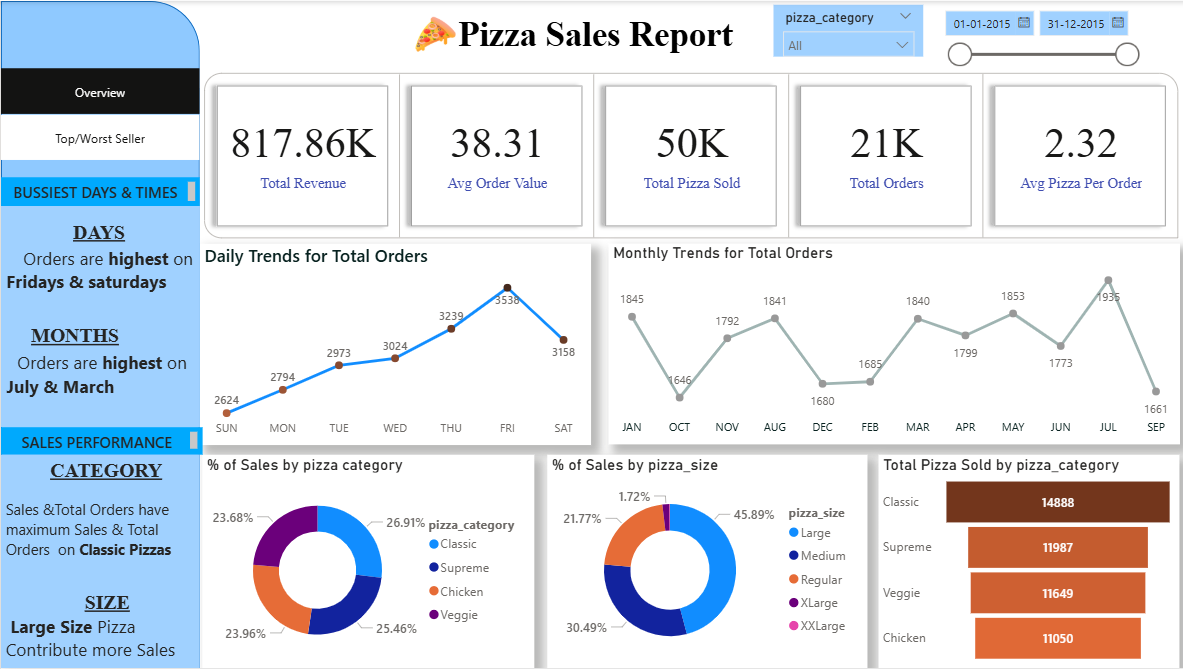

The page's visual inventory and layout, read from the dashboard file:
{"tool":"powerbi","page":{"name":"Home","canvas":[1280,720],"ordinal":0},"visuals":[{"type":"shape","box":[0,0,214.5,720.4],"z":0},{"type":"cardVisual","fields":{"Data":["pizza_sales.Total Revenue","pizza_sales.Avg Order Value","pizza_sales.Total Pizza Sold","pizza_sales.Total Orders","pizza_sales.Avg Pizza Per Order"]},"box":[215.1,73.3,1065.1,188.4],"z":1000},{"type":"textbox","box":[488.4,9.4,309.6,55.4],"z":2000},{"type":"image","box":[428.8,9.4,80.5,53.3],"z":3000},{"type":"columnChart","title":"Daily Trends for Total Orders","fields":{"Y":["pizza_sales.Total Orders"],"Category":["pizza_sales.Order Day"]},"box":[215.1,261.6,422.1,217.4],"z":4000},{"type":"areaChart","title":"Monthly Trends for Total Orders","fields":{"Category":["pizza_sales.Order Month"],"Y":["pizza_sales.Total Orders"]},"box":[655,261.7,616.7,216.7],"z":5000},{"type":"donutChart","title":"% of Sales by pizza category","fields":{"Category":["pizza_sales.pizza_category"],"Y":["pizza_sales.Total Revenue"]},"box":[217.4,489.5,358.1,230.2],"z":6000},{"type":"donutChart","title":"% of Sales  by pizza_size","fields":{"Y":["pizza_sales.Total Revenue"],"Category":["pizza_sales.pizza_size"]},"box":[589.5,489.5,345.3,230.2],"z":7000},{"type":"funnel","fields":{"Category":["pizza_sales.pizza_category"],"Y":["pizza_sales.Total Pizza Sold"]},"box":[946.5,489.5,324.4,230.2],"z":8000},{"type":"textbox","box":[0,190.2,214.5,31],"z":9000},{"type":"textbox","box":[0,221.2,214.5,238.8],"z":10000},{"type":"textbox","box":[0,460,217.2,29.7],"z":11000},{"type":"textbox","box":[0,489.7,214.5,230.7],"z":12000},{"type":"slicer","fields":{"Values":["pizza_sales.pizza_category"]},"box":[833.7,4.7,161.6,55.8],"z":13000},{"type":"slicer","fields":{"Values":["pizza_sales.order_date"]},"box":[1005.8,0,230.2,73.3],"z":14000},{"type":"pageNavigator","box":[0,72.9,214.5,49.9],"z":15000},{"type":"pageNavigator","box":[0,122.8,214.5,49.9],"z":16000}]}

Visuals, with their boxes in screenshot pixels (x1, y1, x2, y2), scaled from the page's 1280x720 canvas onto the 1183x669 screenshot:
shape: rect(0, 0, 198, 668)
cardVisual - pizza_sales.Total Revenue x pizza_sales.Avg Order Value: rect(199, 68, 1182, 243)
textbox: rect(451, 9, 738, 60)
image: rect(396, 9, 471, 58)
"Daily Trends for Total Orders" columnChart: rect(199, 243, 589, 445)
"Monthly Trends for Total Orders" areaChart: rect(605, 243, 1175, 445)
"% of Sales by pizza category" donutChart: rect(201, 455, 532, 668)
"% of Sales  by pizza_size" donutChart: rect(545, 455, 864, 668)
funnel - pizza_sales.pizza_category x pizza_sales.Total Pizza Sold: rect(875, 455, 1175, 668)
textbox: rect(0, 177, 198, 206)
textbox: rect(0, 206, 198, 427)
textbox: rect(0, 427, 201, 455)
textbox: rect(0, 455, 198, 668)
slicer - pizza_sales.pizza_category: rect(771, 4, 920, 56)
slicer - pizza_sales.order_date: rect(930, 0, 1142, 68)
pageNavigator: rect(0, 68, 198, 114)
pageNavigator: rect(0, 114, 198, 160)
